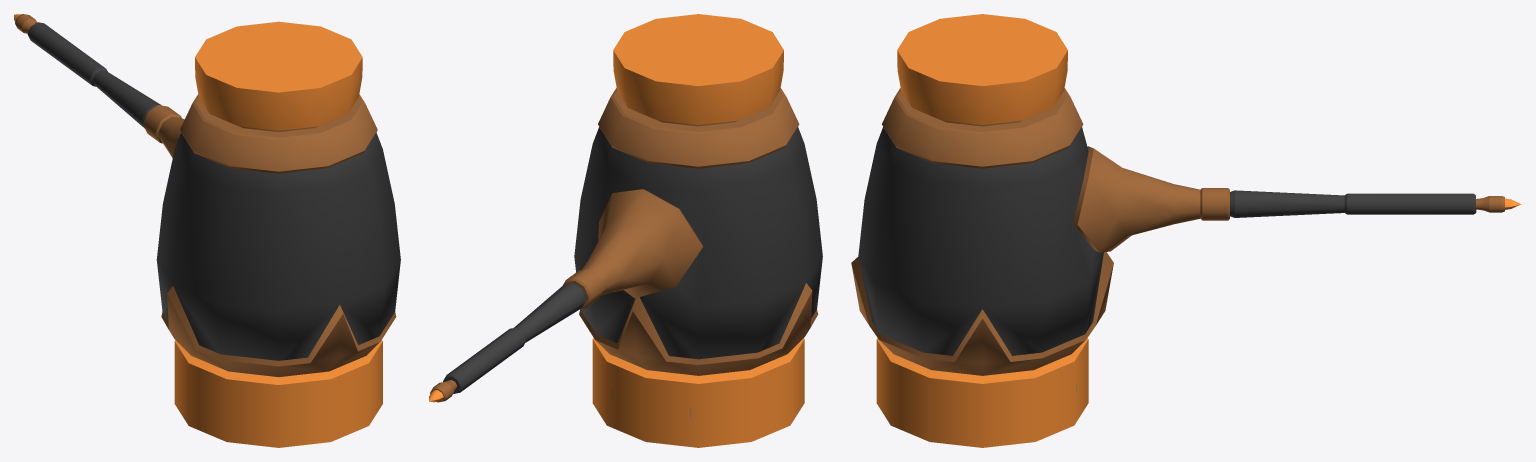
The model's file is Earth_Weopon.fbx.
3 renders of one model, left to right at view 1: azimuth 30°, elevation 25°; view 2: azimuth 150°, elevation 25°; view 3: azimuth 270°, elevation 25°, orthographic.
Visible parts, largest first — view 1: Object003; view 2: Object003; view 3: Object003.
Part boxes in pixels (box(x1,y1,x2,y2)): Object003: box(14, 14, 400, 447); Object003: box(429, 14, 822, 447); Object003: box(851, 14, 1521, 447).
Size of the model in its own units: 72.42 by 109 by 185.
Materials: 1 (1 with a texture image).
